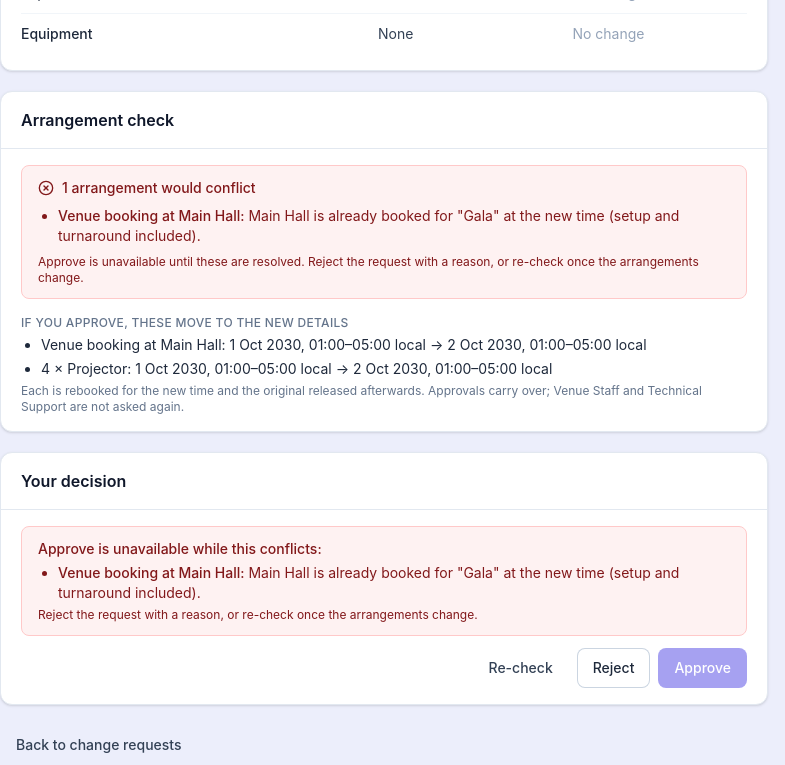
Test: US-48 the review page › US-48: Re-check runs the check again and refreshes the button state
(page scrolled)
Check: the button "Approve" is disabled, box [658, 648, 747, 688]
Click the button "Re-check" at (521, 668), box [472, 648, 569, 688]
(page scrolled)
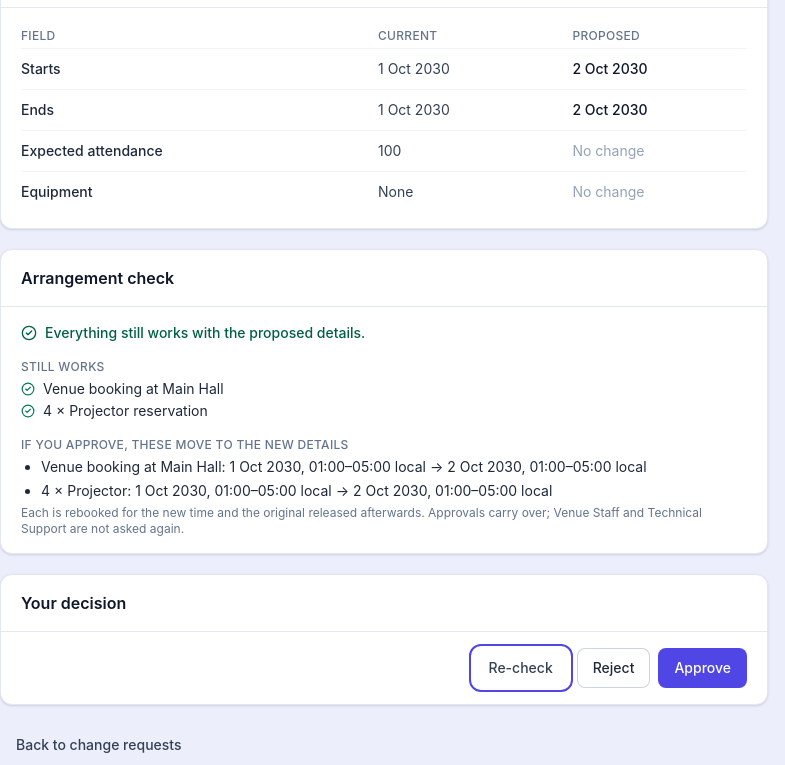
Check: the button "Approve" is enabled, box [658, 648, 747, 688]
Check: the text "Everything still works with the proposed details." is shown, box [21, 324, 365, 341]
